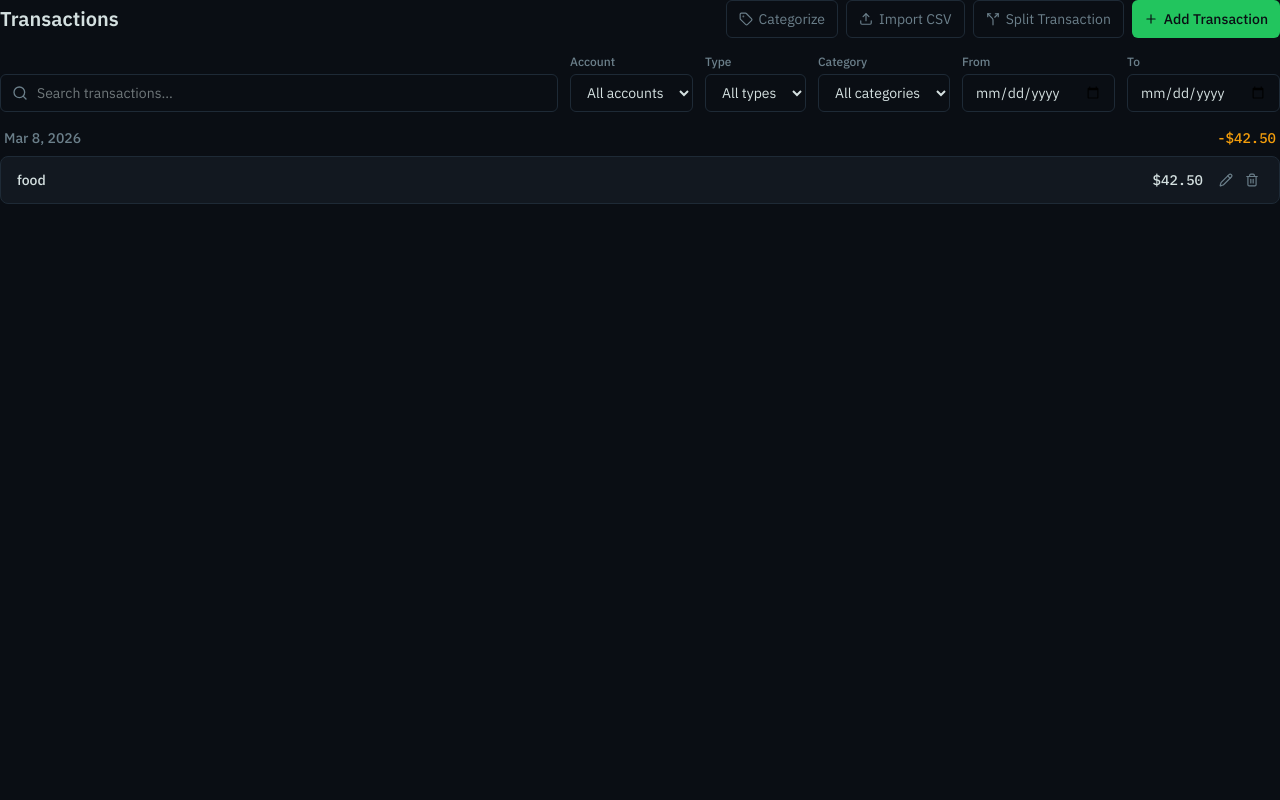
Scenario: Transactions › opens import csv modal
Click the button "Import CSV": (905, 19) x1=846 y1=0 x2=965 y2=38
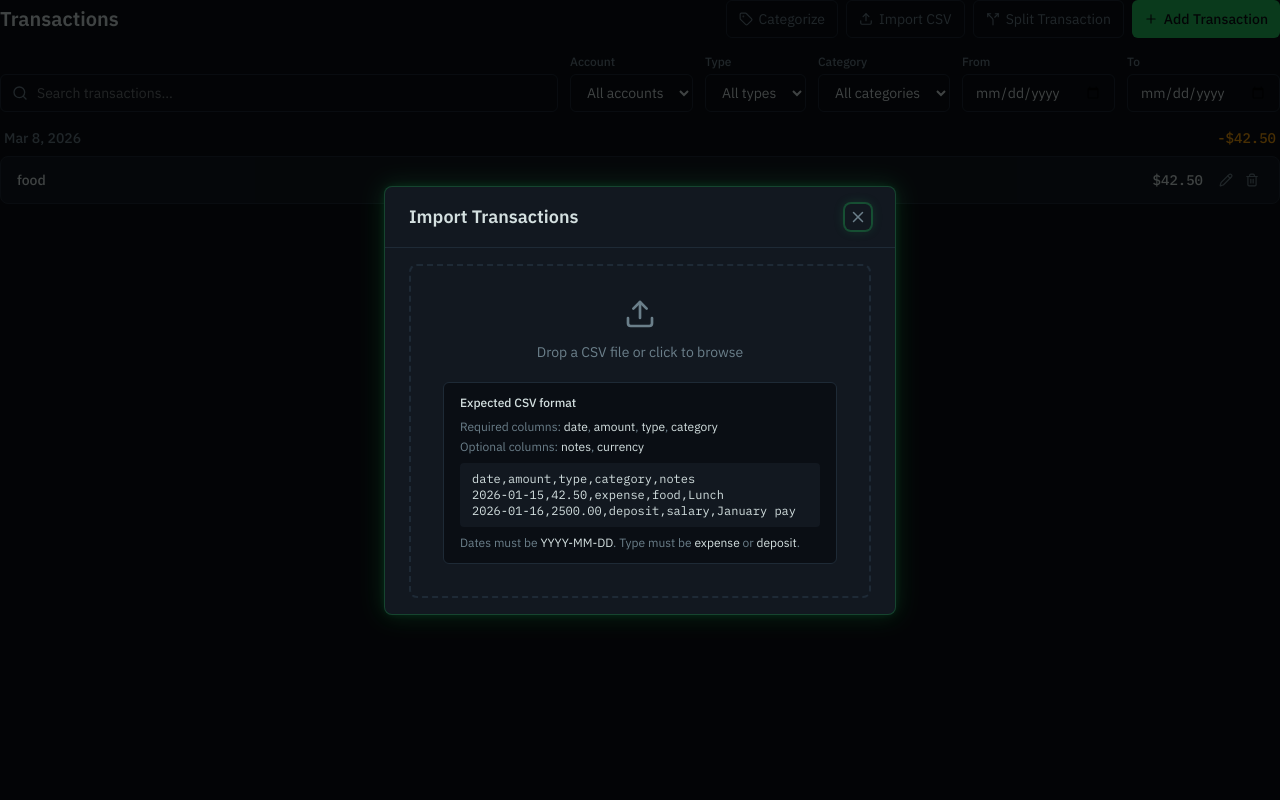
Expected: the heading "Import Transactions" is shown, x1=409 y1=202 x2=578 y2=230
